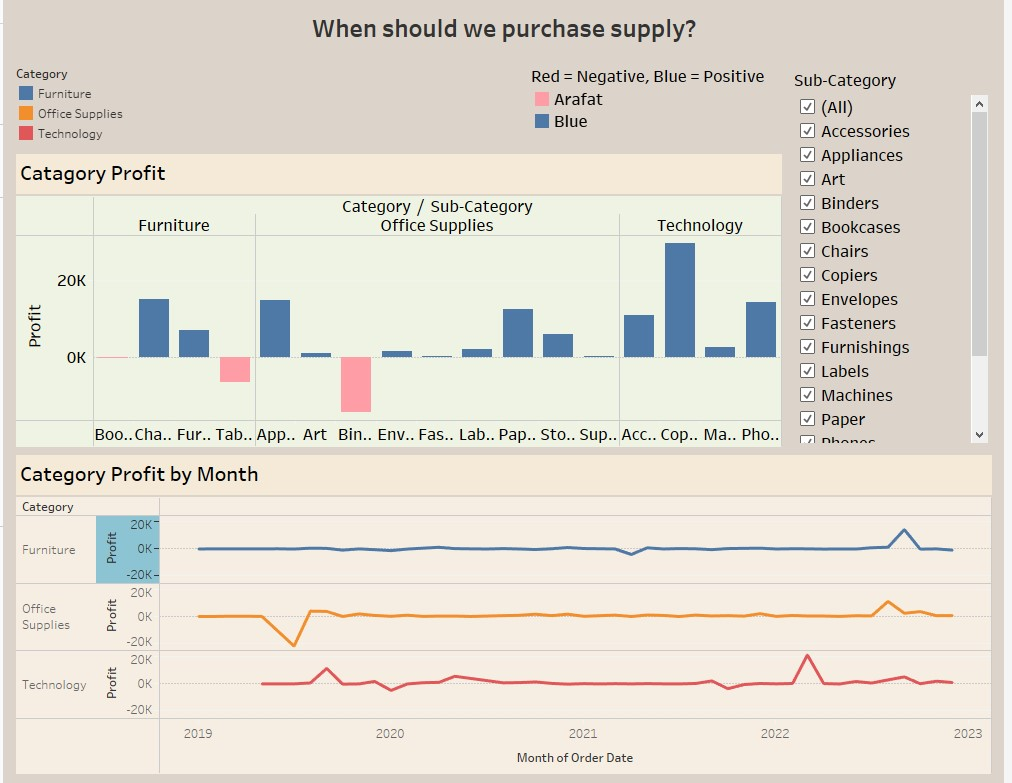

What the dashboard file says about the page in this screenshot:
{"tool":"tableau","page":{"name":"Suppl","canvas":[1000,800],"ordinal":1},"visuals":[{"type":"title","box":[8,8,984,67]},{"type":"legend","title":"Category Profit by Month","param":"[Sample - Superstore].[none:Category:nk]","box":[8,75,515,89]},{"type":"legend","title":"Catagory Profit","param":"[Sample - Superstore].[usr:Calculation_772648871691481088:nk]","box":[523,75,259,89]},{"type":"filter","title":"Catagory Profit","param":"[Sample - Superstore].[none:Sub-Category:nk]","box":[786,79,202,382]},{"type":"worksheet","title":"Catagory Profit","mark":"Bar","rows":["Profit"],"cols":["Category","Sub-Category"],"box":[8,164,774,301]},{"type":"worksheet","title":"Category Profit by Month","mark":"Automatic","rows":["Category","Profit"],"cols":["Order Date"],"box":[8,465,984,327]}]}

Visuals, with their boxes on the page's 1000x800 design canvas (x1, y1, x2, y2). These are canvas units, not pixel positions in the 1012x783 screenshot, which may show the page scaled, cropped or inside an application window:
title: (8,8,992,75)
"Category Profit by Month" legend: (8,75,523,164)
"Catagory Profit" legend: (523,75,782,164)
"Catagory Profit" filter: (786,79,988,461)
"Catagory Profit" worksheet (Bar marks): (8,164,782,465)
"Category Profit by Month" worksheet: (8,465,992,792)
